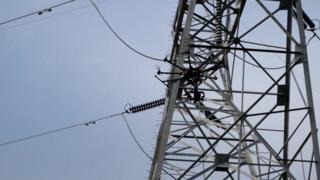UAV: (155, 51, 218, 103)
